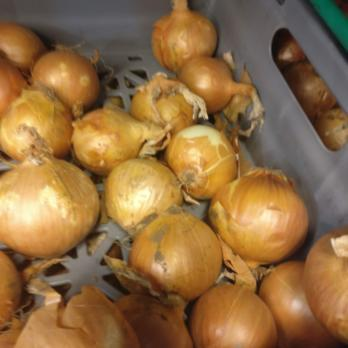Onion: (0, 19, 112, 261), (78, 105, 245, 227), (118, 217, 246, 348), (244, 227, 348, 348), (210, 159, 310, 271), (174, 55, 253, 123), (152, 1, 221, 72)
